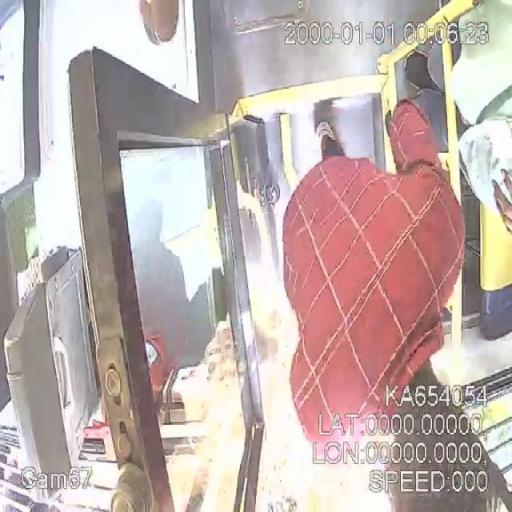persona: (280, 97, 510, 510), (280, 97, 468, 455)
